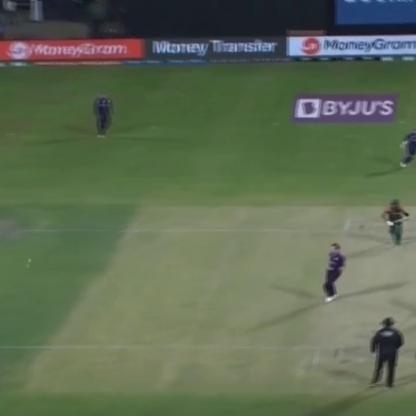ball: (24, 256, 35, 262), (22, 264, 33, 270)
pitch: (318, 209, 416, 408)
